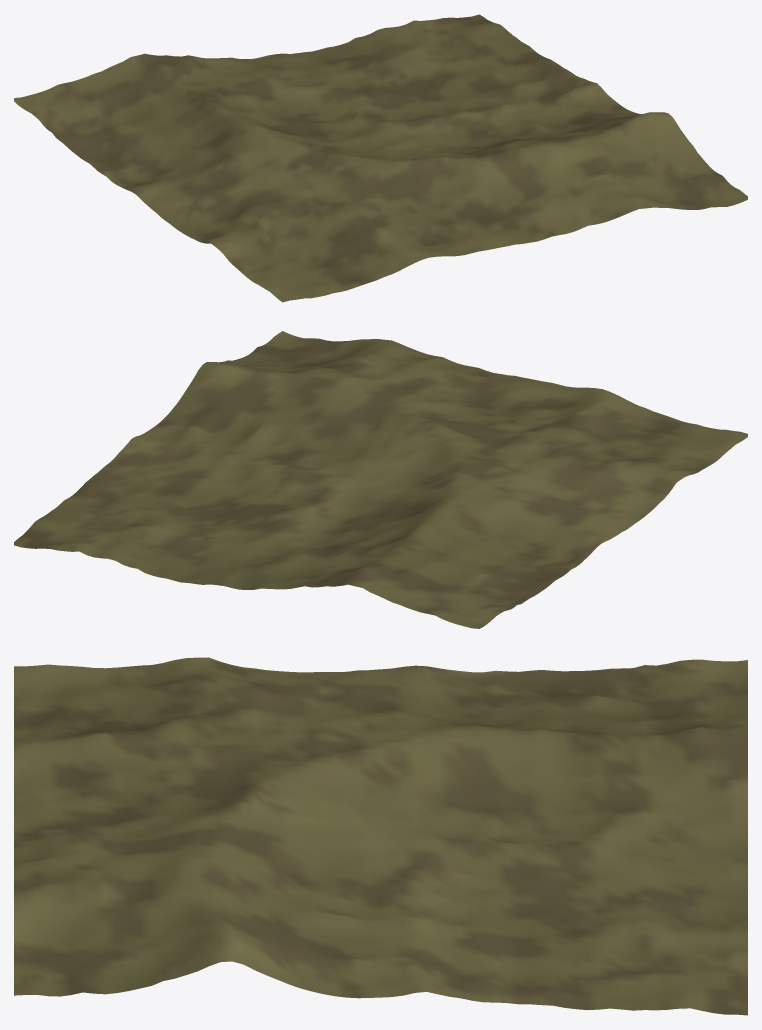
File: land_f_02_07.glb
The picture shows the model from 3 angles, top to bottom: view 1: azimuth 30°, elevation 25°; view 2: azimuth 150°, elevation 25°; view 3: azimuth 270°, elevation 25°; orthographic projection. The views are drawn at different scales.
Visible parts, largest first — view 1: land_f_02_07; view 2: land_f_02_07; view 3: land_f_02_07.
Boxes of the visible parts, x1,y1,x2,y2 form: land_f_02_07: [14, 14, 747, 302]; land_f_02_07: [14, 331, 747, 628]; land_f_02_07: [14, 657, 747, 1015].
Bounding box in the file's own units: 3840 × 399 × 3840.
